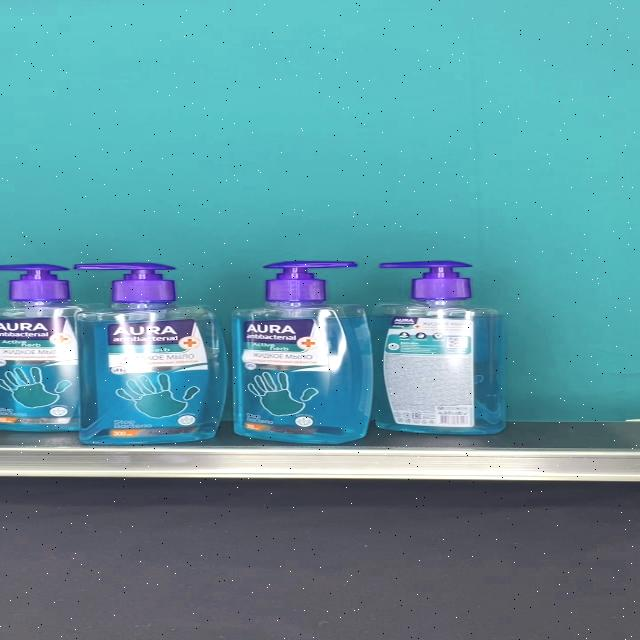Bottle: (77, 262, 226, 446), (232, 261, 372, 444), (372, 258, 506, 435), (0, 264, 109, 432)
Cap: (264, 260, 360, 302), (74, 262, 173, 300), (380, 259, 472, 299), (0, 264, 69, 300)
